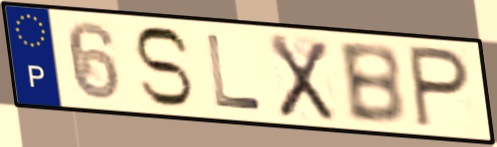6: (64, 19, 124, 103)
B: (335, 41, 409, 128)
L: (203, 31, 265, 112)
P: (406, 42, 473, 132)
S: (131, 24, 196, 110)
X: (266, 32, 337, 124)
